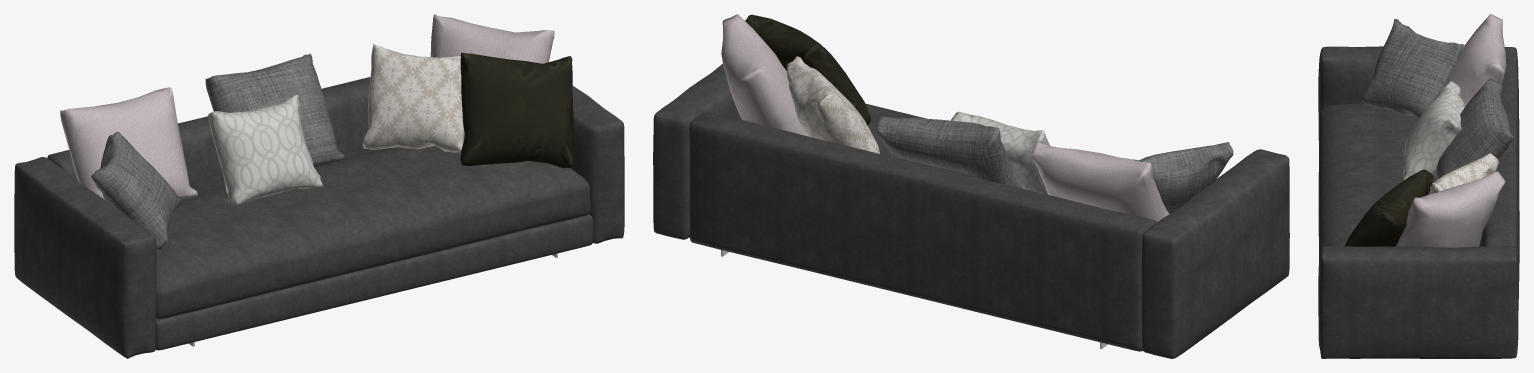
The model's file is SOBA_6.glb.
3 renders of one model, left to right at view 1: azimuth 30°, elevation 25°; view 2: azimuth 150°, elevation 25°; view 3: azimuth 270°, elevation 25°, orthographic. The views are drawn at different scales.
Visible parts, largest first — view 1: SM_Elex_sofa_268_MI_Elex_Modular_Sofa268_0; view 2: SM_Elex_sofa_268_MI_Elex_Modular_Sofa268_0; view 3: SM_Elex_sofa_268_MI_Elex_Modular_Sofa268_0.
Part boxes in pixels (<box>): SM_Elex_sofa_268_MI_Elex_Modular_Sofa268_0: <box>14,14,624,358</box>; SM_Elex_sofa_268_MI_Elex_Modular_Sofa268_0: <box>653,14,1289,358</box>; SM_Elex_sofa_268_MI_Elex_Modular_Sofa268_0: <box>1318,14,1519,358</box>.
Bounding box in the file's own units: 2.05 × 0.7085 × 0.7997.
Materials: 1 (1 with a texture image).
